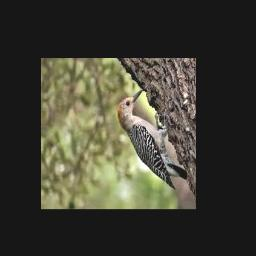Woodpecker: (117, 89, 188, 190)
